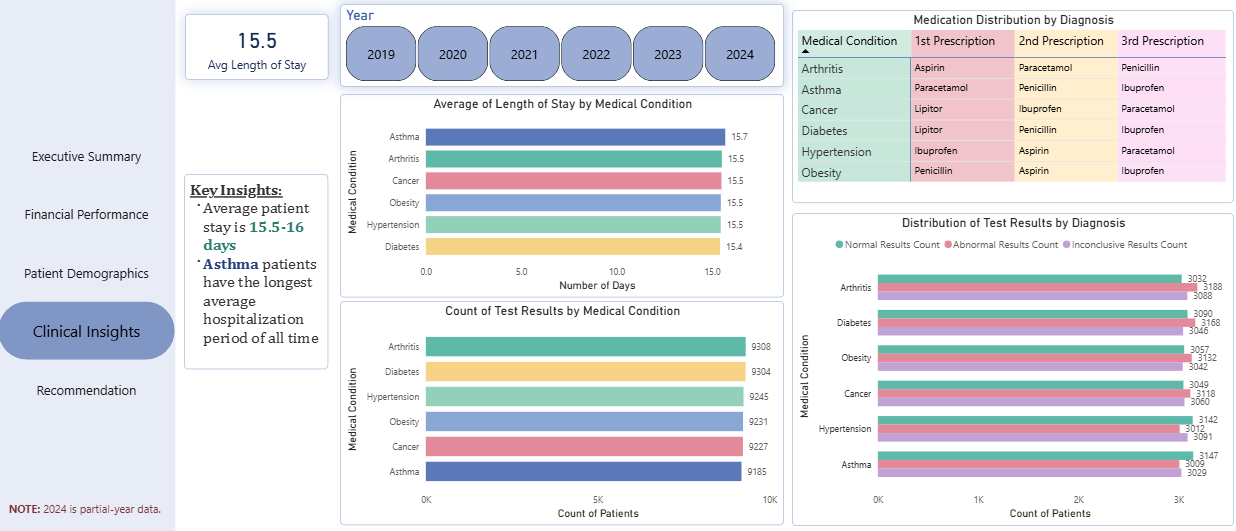

The dashboard page shown, as its layout file describes it:
{"tool":"powerbi","page":{"name":"Clinical Insights","canvas":[1680,720],"ordinal":3},"visuals":[{"type":"group","id":"g1","title":"Group 2","box":[0,0,239.7,775],"z":0},{"type":"shape","box":[0,0,239.7,775],"z":0,"group":"g1"},{"type":"clusteredBarChart","fields":{"Category":["medics_table.Medical Condition"],"Y":["Avg(fact_table.Length of Stay)"]},"box":[462.2,128.4,600,275],"z":1000},{"type":"pageNavigator","box":[0,172.1,239.7,395.6],"z":1000,"group":"g1"},{"type":"card","fields":{"Values":["_Measures.Avg Length of Stay"]},"box":[252.1,19.7,194.4,88.7],"z":2000},{"type":"pivotTable","title":"Medication Distribution by Diagnosis ","fields":{"Rows":["medics_table.Medical Condition"],"Values":["_Measures.1st Prescription","_Measures.2nd Prescription","_Measures.3rd Prescription"]},"box":[1073,14.9,597.3,260.8],"z":3000},{"type":"clusteredBarChart","title":"Distribution of Test Results by Diagnosis","fields":{"Category":["medics_table.Medical Condition"],"Y":["_Measures.Normal Results Count","_Measures.Abnormal Results Count","_Measures.Inconclusive Results Count"]},"box":[1073.2,288.7,597.2,422.5],"z":4000},{"type":"clusteredBarChart","fields":{"Category":["medics_table.Medical Condition"],"Y":["CountNonNull(medics_table.Test Results)"]},"box":[462.2,408.1,600,302.7],"z":5000},{"type":"advancedSlicerVisual","fields":{"Values":["calendar_table.Year"]},"box":[462.2,6.8,600,112.2],"z":6000},{"type":"textbox","box":[9.5,673,229.7,37.8],"z":7000},{"type":"textbox","box":[251.4,236.5,194.6,263.5],"z":8000}]}

Visuals, with their boxes in screenshot pixels (x1, y1, x2, y2), scaled from the page's 1680x720 canvas onto the 1236x531 screenshot:
"Group 2" group: 0,0,176,530
shape: 0,0,176,530
clusteredBarChart - medics_table.Medical Condition x Avg(fact_table.Length of Stay): 340,95,781,298
pageNavigator: 0,127,176,419
card - _Measures.Avg Length of Stay: 185,15,328,80
"Medication Distribution by Diagnosis " pivotTable: 789,11,1229,203
"Distribution of Test Results by Diagnosis" clusteredBarChart: 790,213,1229,525
clusteredBarChart - medics_table.Medical Condition x CountNonNull(medics_table.Test Results): 340,301,781,524
advancedSlicerVisual - calendar_table.Year: 340,5,781,88
textbox: 7,496,176,524
textbox: 185,174,328,369
